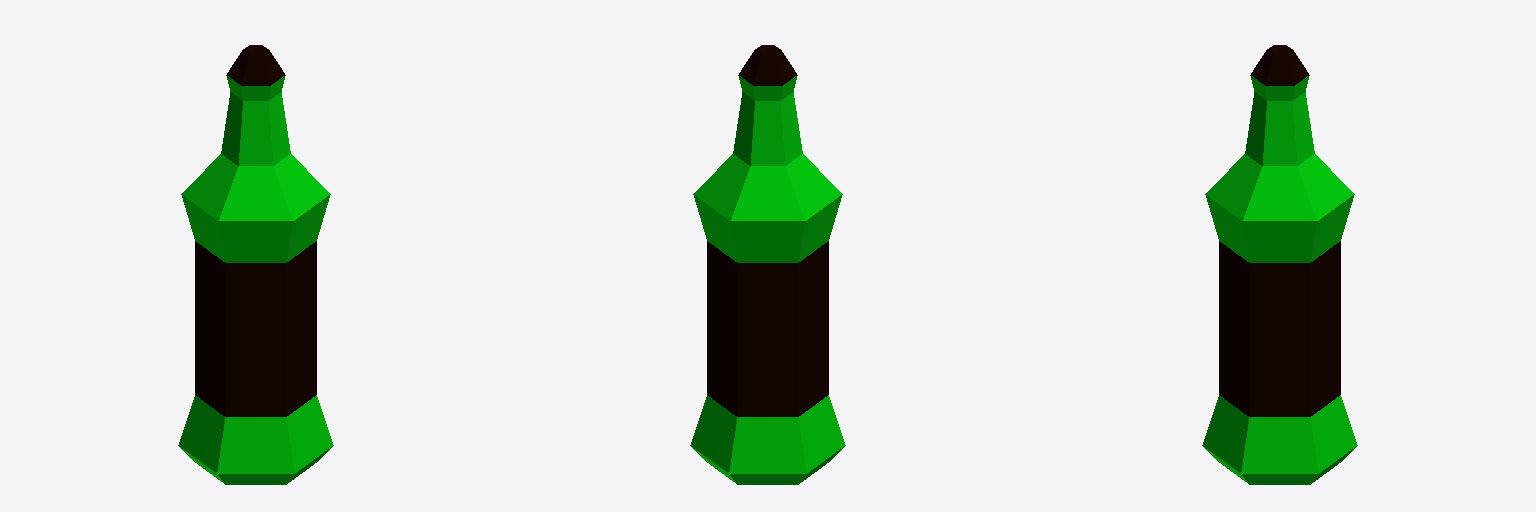
File: Bottle.obj
3 renders of one model, left to right at view 1: azimuth 30°, elevation 25°; view 2: azimuth 150°, elevation 25°; view 3: azimuth 270°, elevation 25°, orthographic.
Parts seen in each view (by area): view 1: Bottle_Debris_Circle; view 2: Bottle_Debris_Circle; view 3: Bottle_Debris_Circle.
Part boxes in pixels (x1,y1,x2,y2): Bottle_Debris_Circle: (178, 45, 333, 484); Bottle_Debris_Circle: (690, 45, 845, 484); Bottle_Debris_Circle: (1202, 45, 1357, 484).
Size of the model in its own units: 0.5471 by 1.85 by 0.6317.